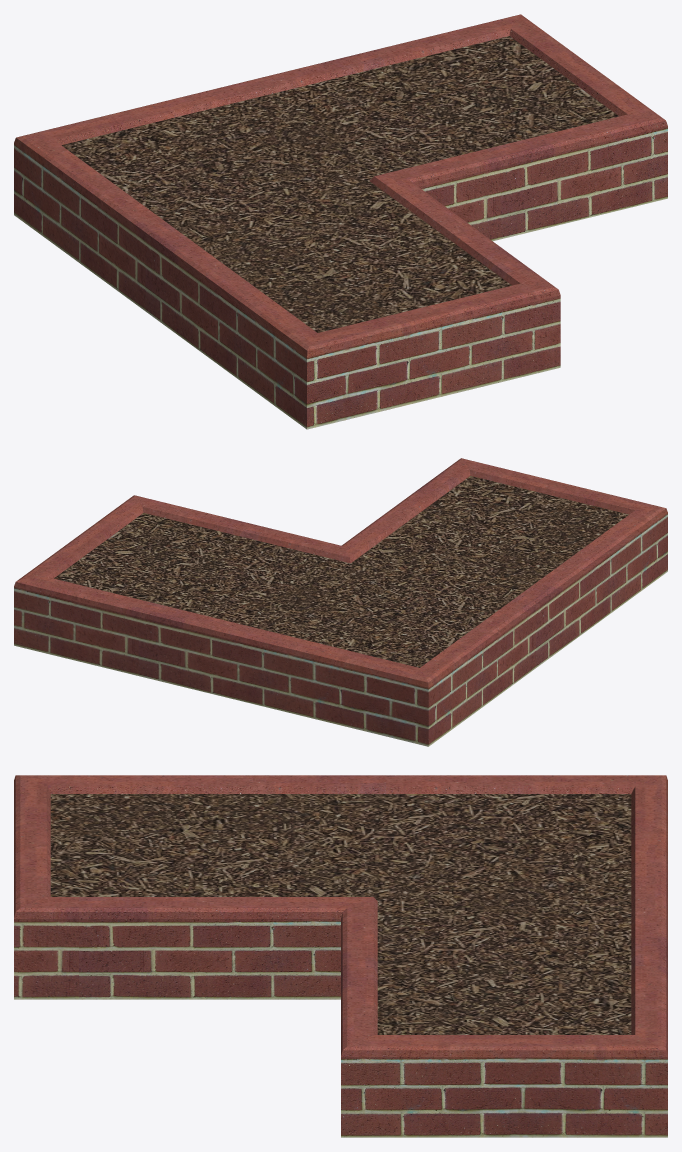
File: flower_bed_f.FBX
3 views of the same model, one above another, from view 1: azimuth 30°, elevation 25°; view 2: azimuth 150°, elevation 25°; view 3: azimuth 270°, elevation 25° (orthographic). The views are drawn at different scales.
Parts seen in each view (by area): view 1: flower_bed_f; view 2: flower_bed_f; view 3: flower_bed_f.
Boxes of the visible parts, bbox=[...] form: flower_bed_f: bbox=[14, 14, 667, 429]; flower_bed_f: bbox=[14, 458, 667, 746]; flower_bed_f: bbox=[14, 775, 667, 1137].
Bounding box in the file's own units: 200 × 30 × 200.
